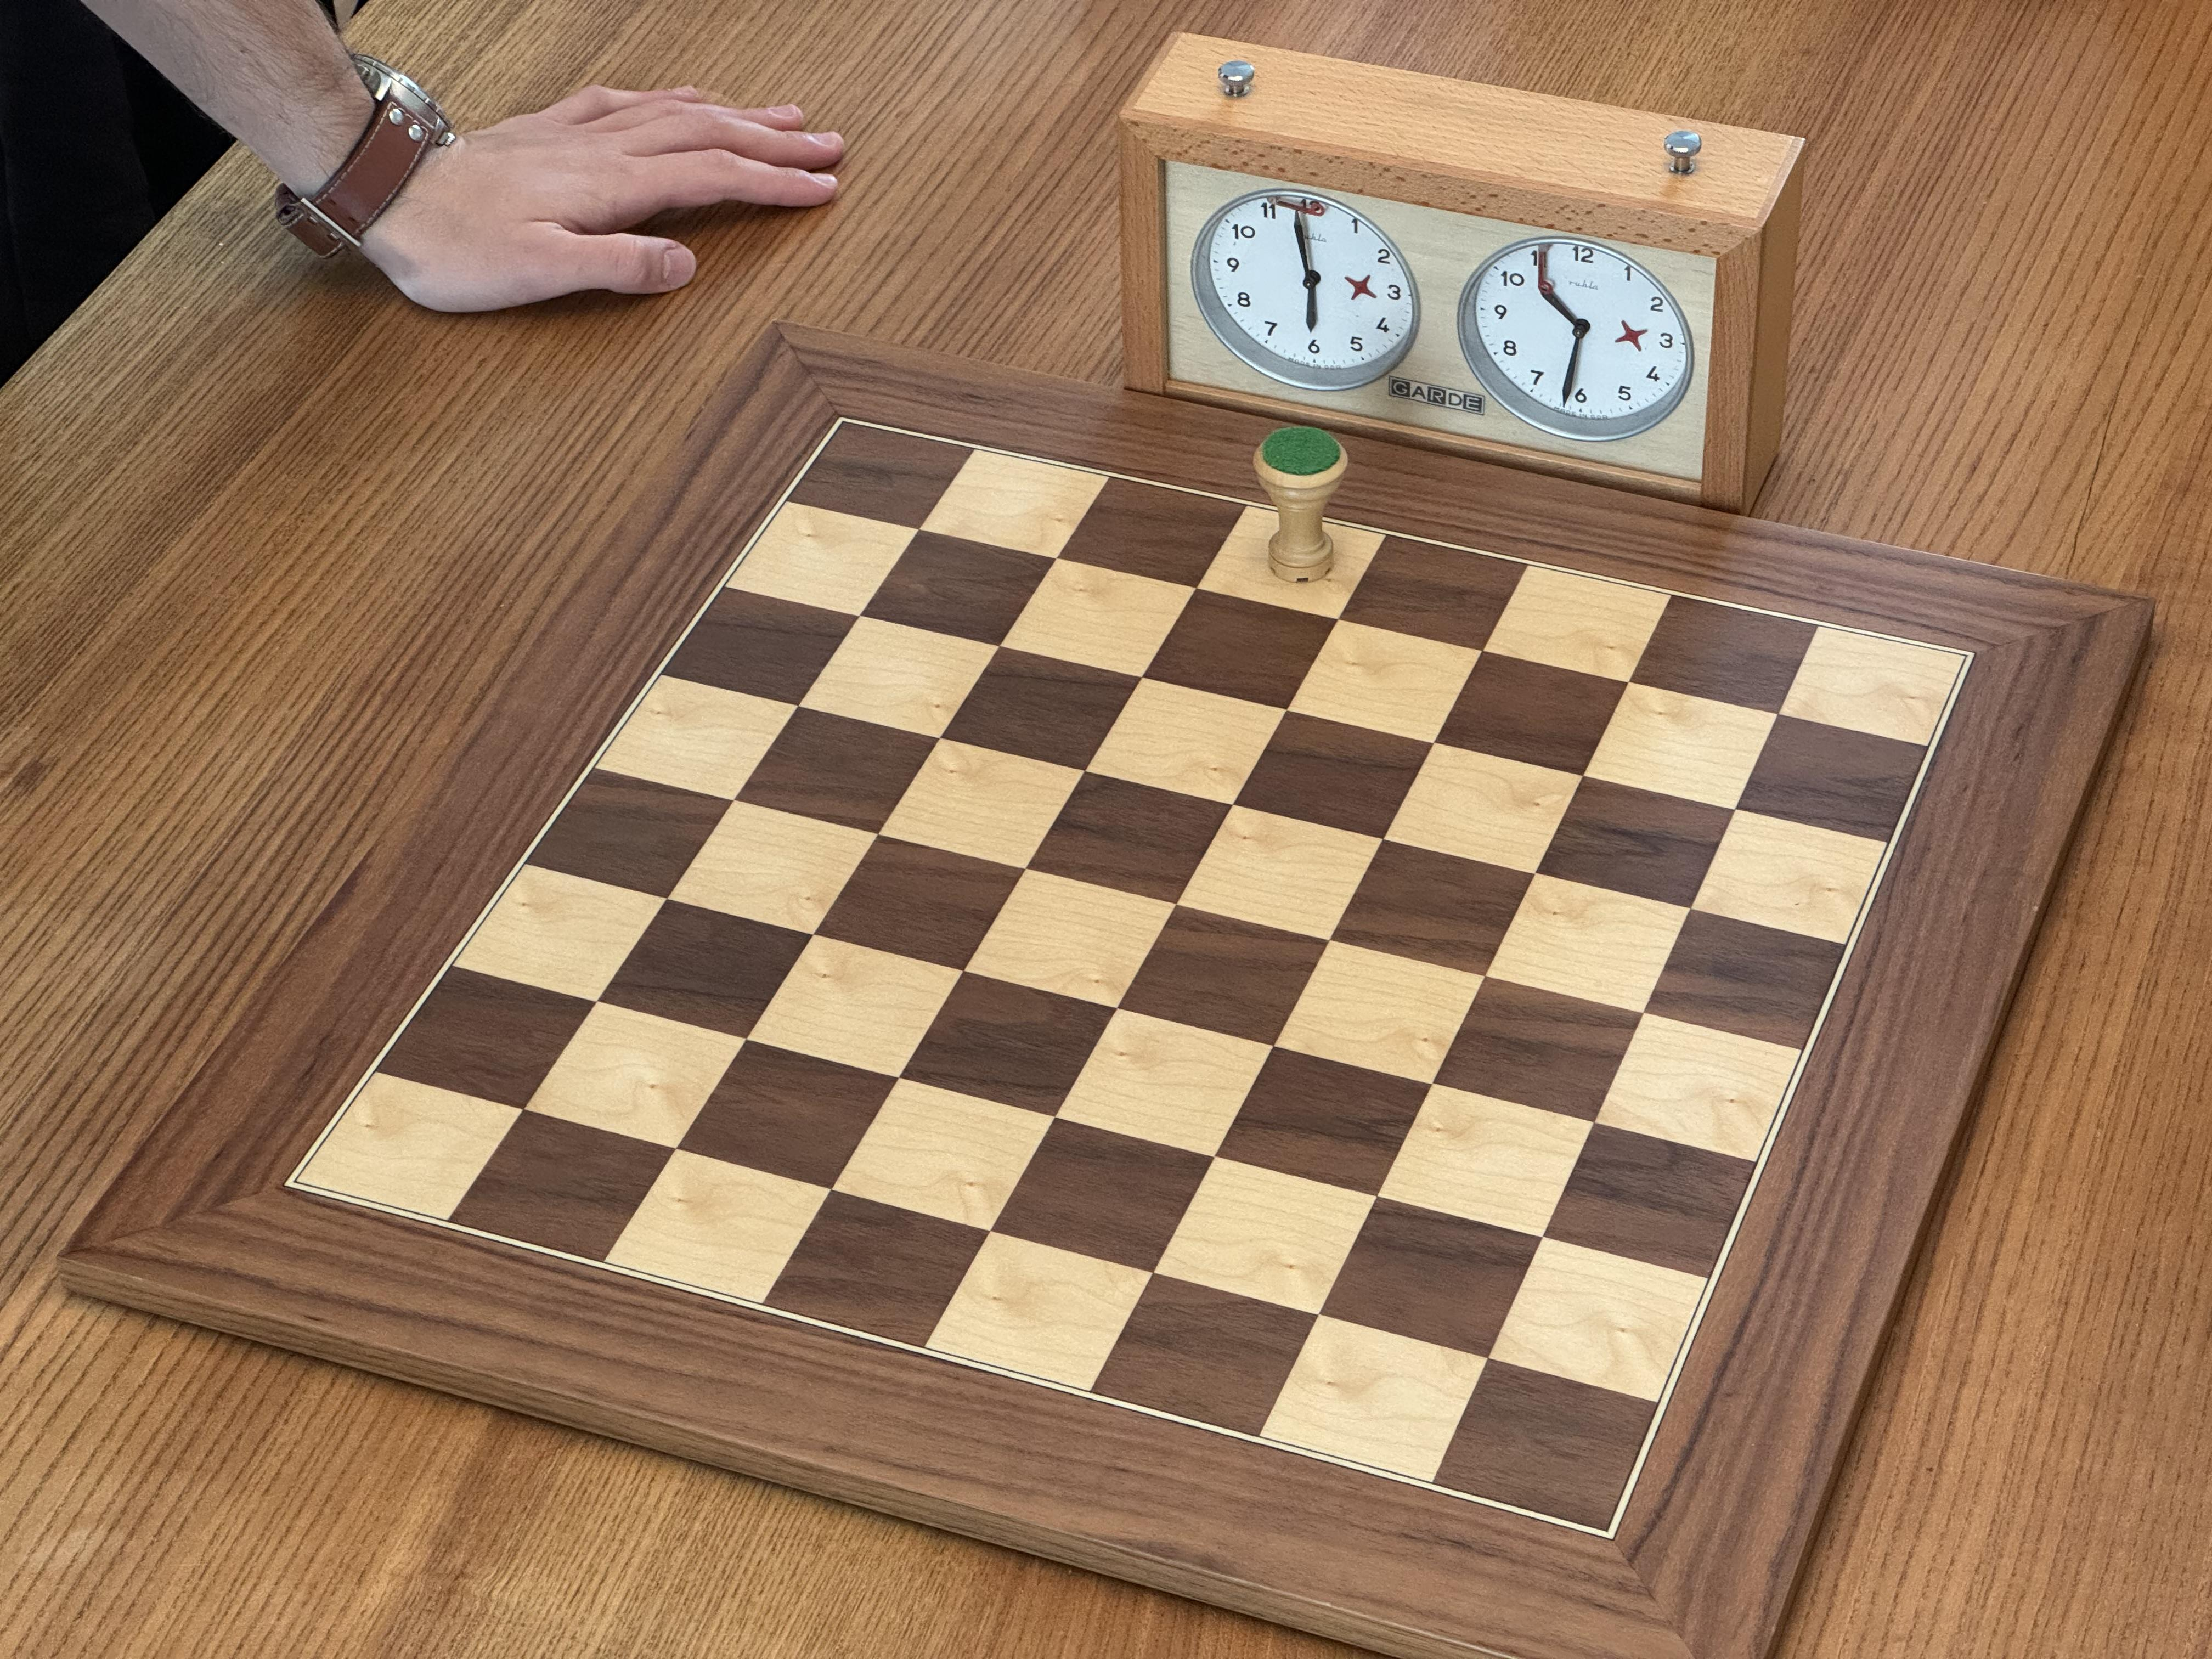White Extra Queen: (1249, 422, 1353, 587)
